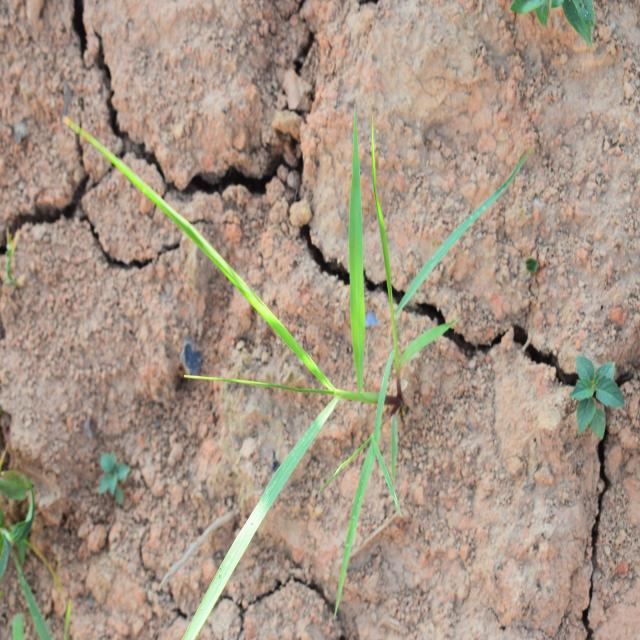green_foxtail: (142, 152, 428, 566)
